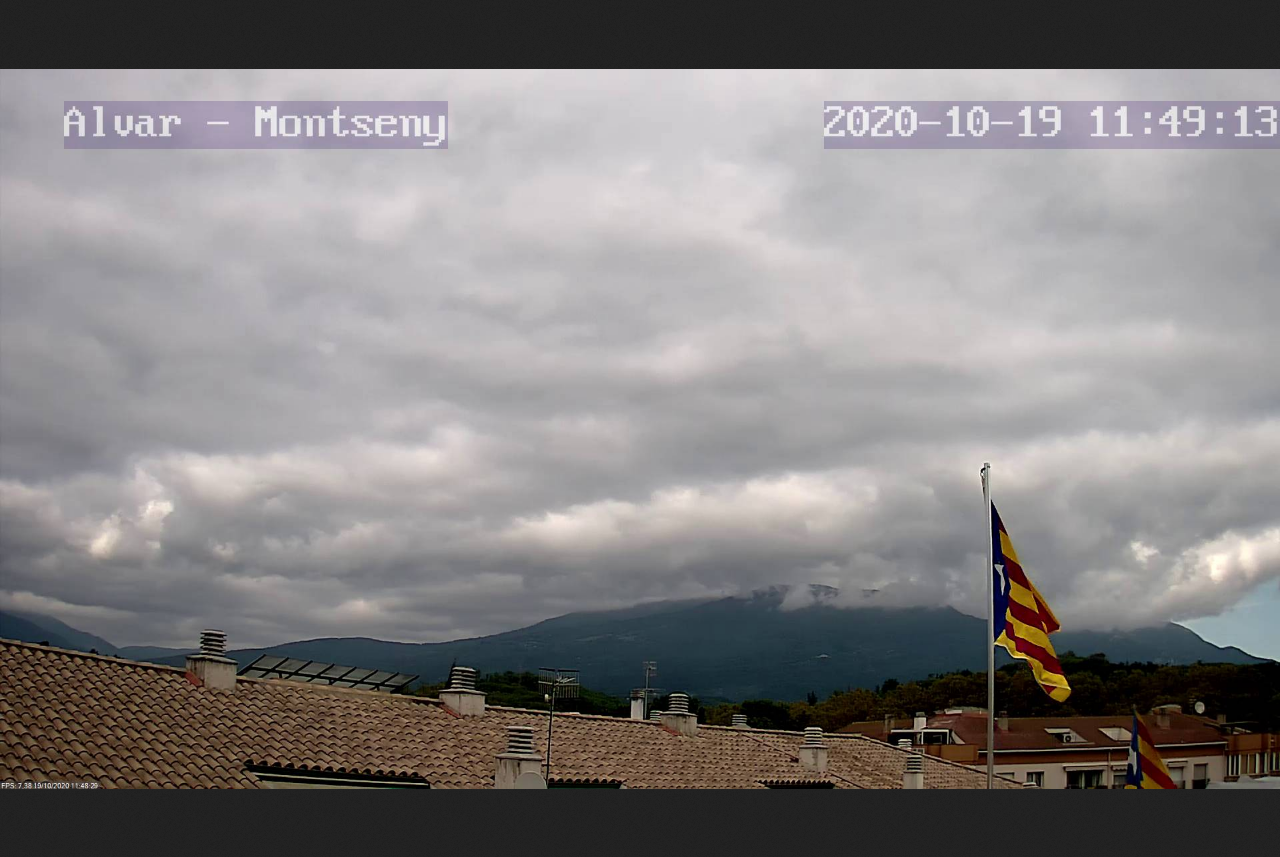maybe: (976, 486, 1076, 704)
